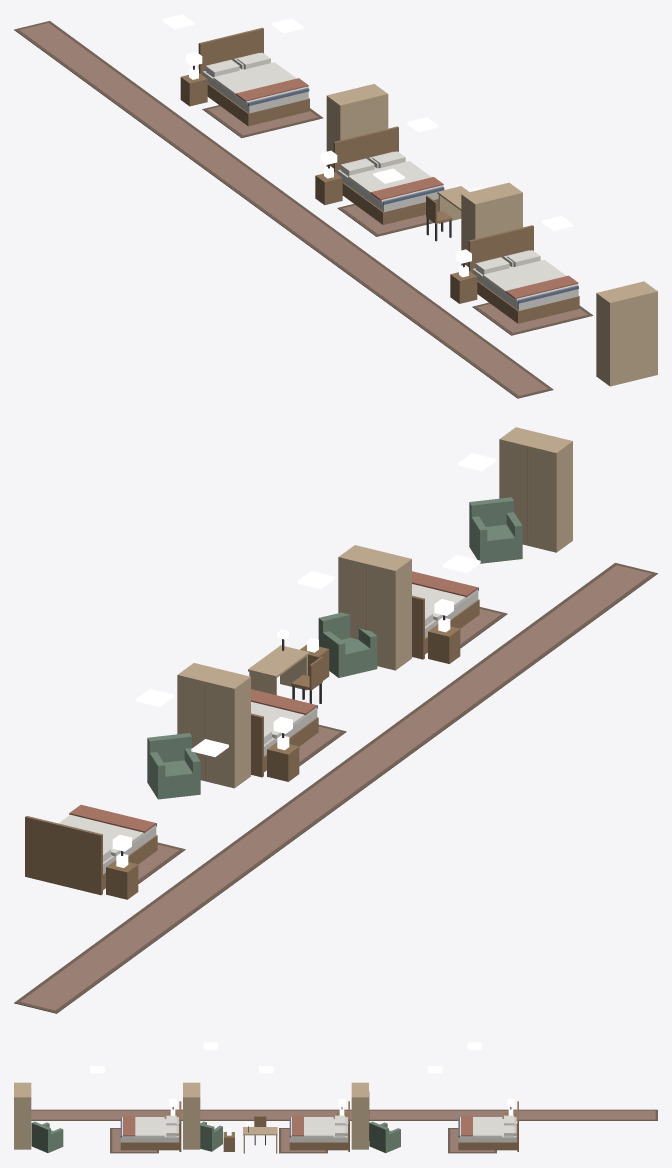
The model's file is fine-s2.glb.
3 views of the same model, one above another, from view 1: azimuth 30°, elevation 25°; view 2: azimuth 150°, elevation 25°; view 3: azimuth 270°, elevation 25° (orthographic). The views are drawn at different scales.
Parts seen in each view (by area): view 1: soft-s2, dresser.005, bed-frame.003, bed-frame.005, bed-frame.004, dresser.003, dresser.004, nightstand.003, nightstand.004, nightstand.005, writing-desk.001, cafe-chair.001; view 2: soft-s2, dresser.005, dresser.003, dresser.004, bed-frame.003, lounge-chair.005, lounge-chair.003, lounge-chair.004, writing-desk.001, bed-frame.005, bed-frame.004, nightstand.003 (+2 smaller); view 3: soft-s2, dresser.003, dresser.004, dresser.005, bed-frame.005, bed-frame.003, bed-frame.004, lounge-chair.005, lounge-chair.003, lounge-chair.004, writing-desk.001, side-table.001.
Part boxes in pixels (box(x1,y1,x2,y2)): soft-s2: box(14, 21, 593, 398); dresser.005: box(596, 281, 657, 386); bed-frame.003: box(198, 27, 309, 126); bed-frame.005: box(468, 225, 579, 323); bed-frame.004: box(333, 126, 444, 224); dresser.003: box(326, 84, 388, 167); dresser.004: box(461, 182, 522, 266); nightstand.003: box(180, 67, 207, 106); nightstand.004: box(315, 166, 342, 205); nightstand.005: box(450, 265, 477, 303); writing-desk.001: box(437, 186, 482, 223); cafe-chair.001: box(426, 195, 452, 241); soft-s2: box(14, 563, 657, 1013); dresser.005: box(499, 427, 572, 552); dresser.003: box(177, 663, 250, 788); dresser.004: box(338, 545, 411, 670); bed-frame.003: box(25, 816, 157, 895); lounge-chair.005: box(469, 497, 522, 563); lounge-chair.003: box(147, 733, 200, 799); lounge-chair.004: box(318, 612, 377, 677); writing-desk.001: box(248, 629, 309, 695); bed-frame.005: box(412, 587, 479, 659); bed-frame.004: box(251, 705, 318, 777); nightstand.003: box(106, 853, 138, 899); soft-s2: box(31, 1099, 657, 1153); dresser.003: box(351, 1082, 369, 1149); dresser.004: box(183, 1082, 200, 1149); dresser.005: box(14, 1082, 31, 1149); bed-frame.005: box(120, 1101, 181, 1151); bed-frame.003: box(458, 1101, 518, 1151); bed-frame.004: box(289, 1101, 349, 1151); lounge-chair.005: box(31, 1121, 63, 1152); lounge-chair.003: box(369, 1121, 400, 1153); lounge-chair.004: box(200, 1121, 222, 1151); writing-desk.001: box(243, 1122, 277, 1153); side-table.001: box(223, 1128, 234, 1151).
Bounding box in the file's own units: 3.6 × 2.69 × 22.33.
